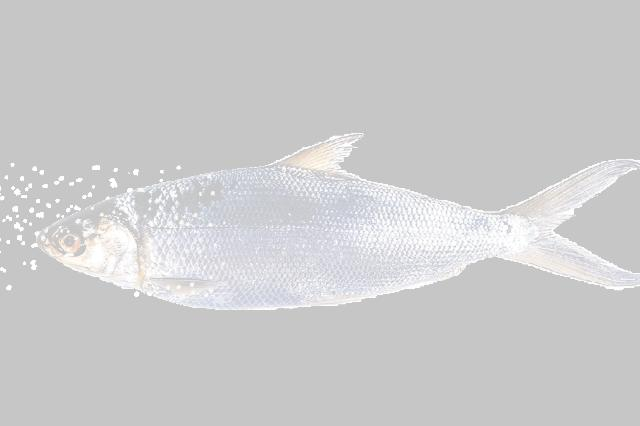Ichthyophthirius -White Spots-: (35, 133, 640, 309), (36, 133, 640, 309), (36, 134, 640, 309)
